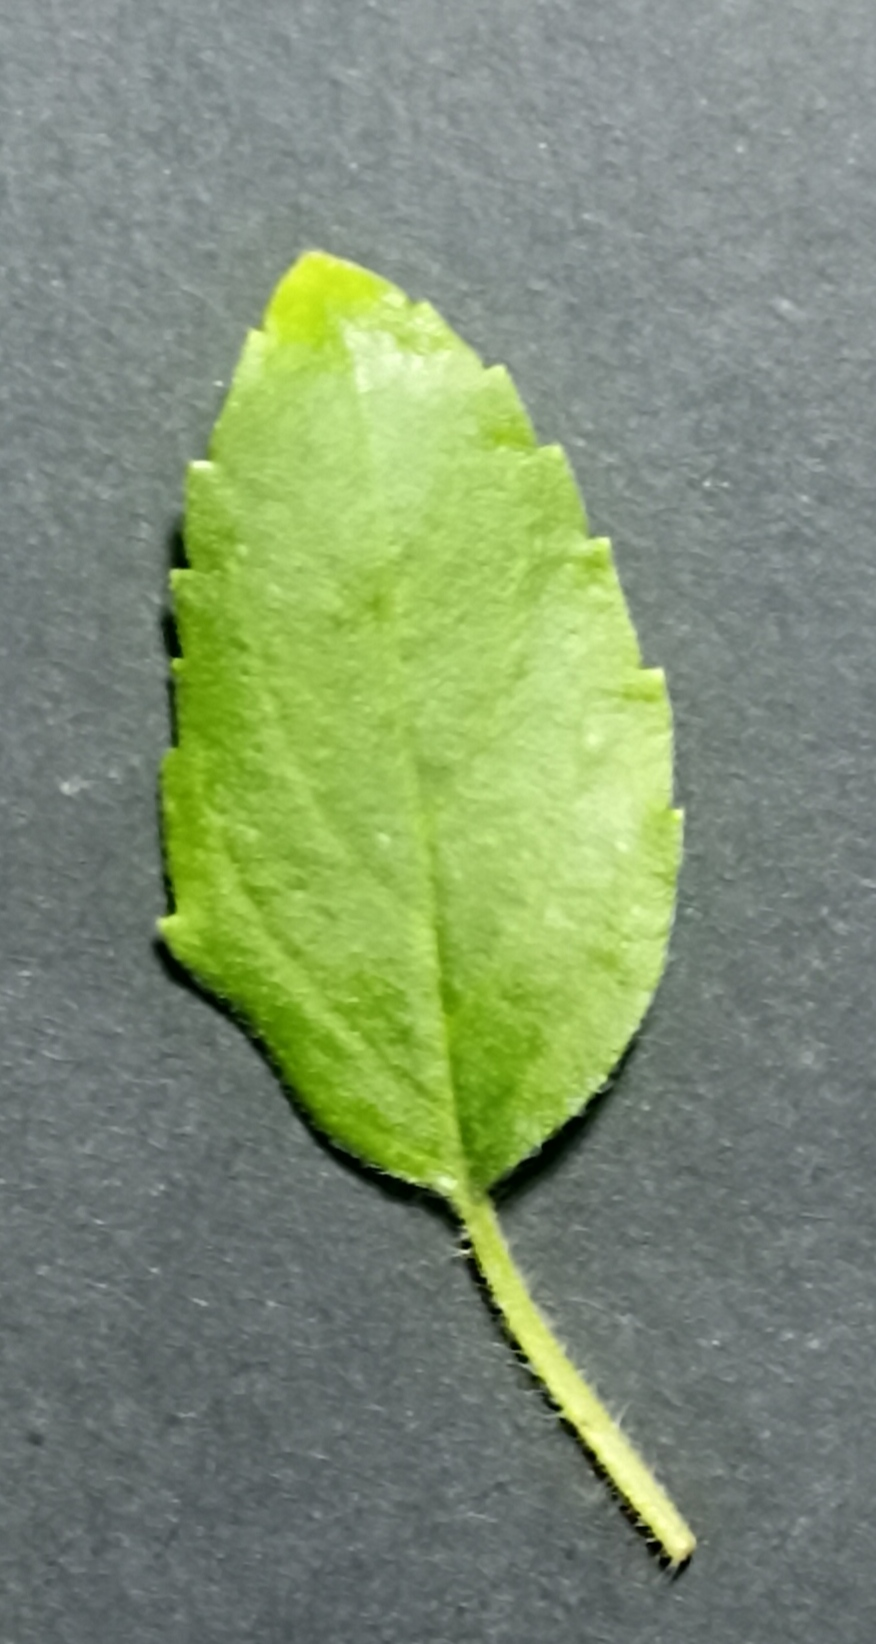Healthy: (142, 247, 696, 1208)
